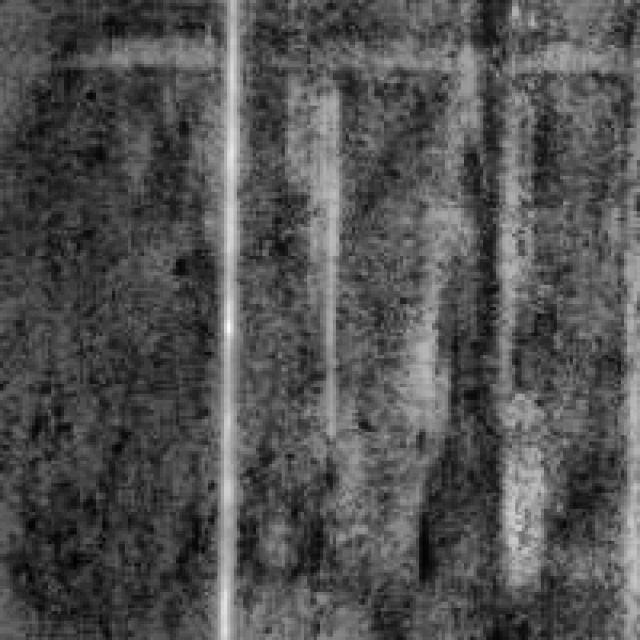Inclusion: (202, 3, 244, 637)
